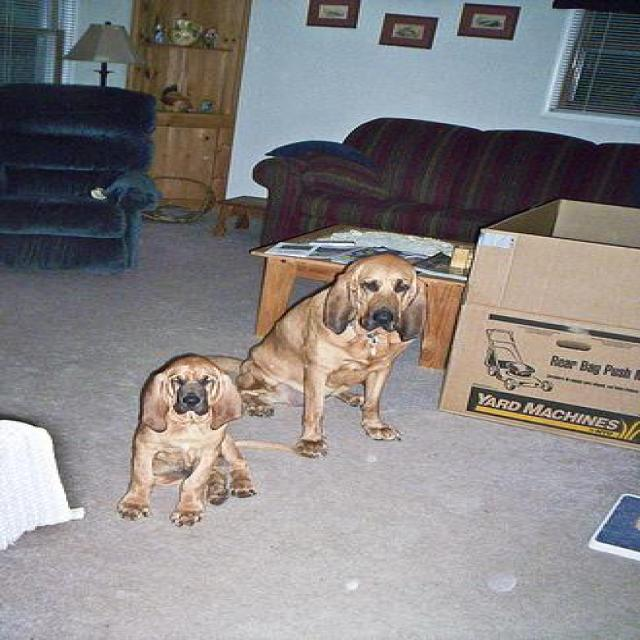bloodhound: (233, 252, 432, 458), (119, 352, 258, 531)
